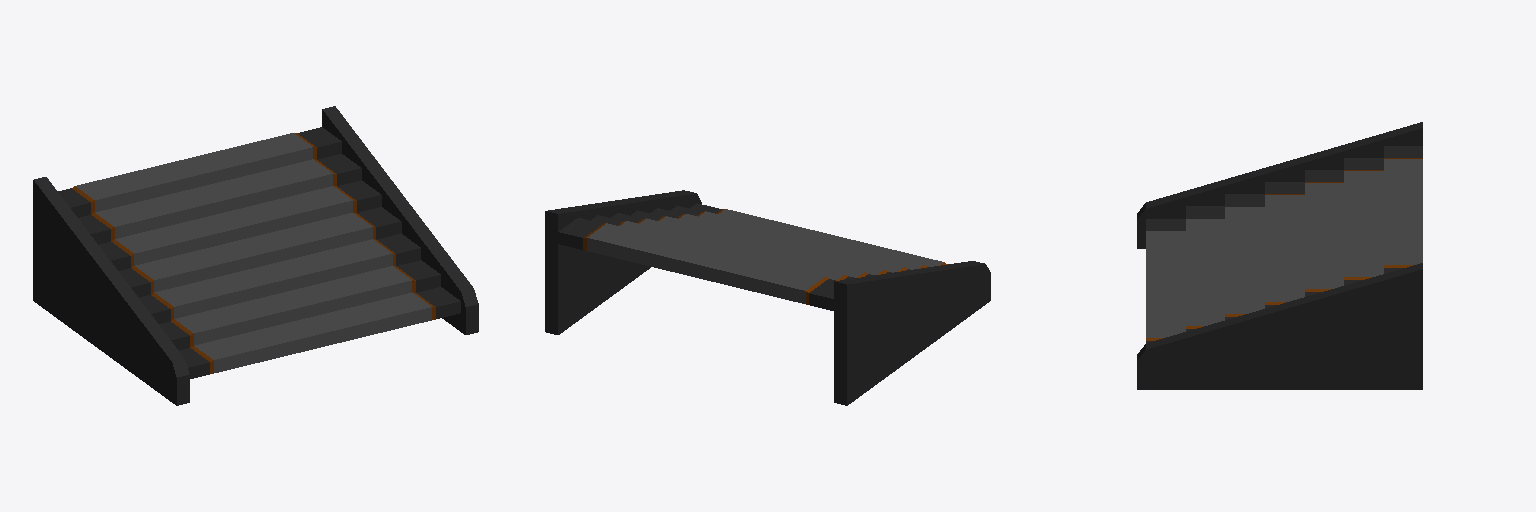
File: Staircase.obj
The picture shows the model from 3 angles: view 1: azimuth 30°, elevation 25°; view 2: azimuth 150°, elevation 25°; view 3: azimuth 270°, elevation 25°; orthographic projection.
Visible parts, largest first — view 1: Staircase_Plane.319; view 2: Staircase_Plane.319; view 3: Staircase_Plane.319.
Boxes of the visible parts, <box> form: Staircase_Plane.319: <box>33,106,478,405</box>; Staircase_Plane.319: <box>545,190,990,405</box>; Staircase_Plane.319: <box>1137,122,1422,389</box>.
Bounding box in the file's own units: 3.78 × 1.45 × 3.11.